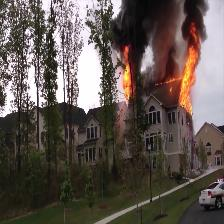fire: (182, 42, 195, 111), (120, 48, 131, 93)
smoke: (152, 3, 180, 72), (121, 2, 148, 45), (184, 2, 207, 33)
